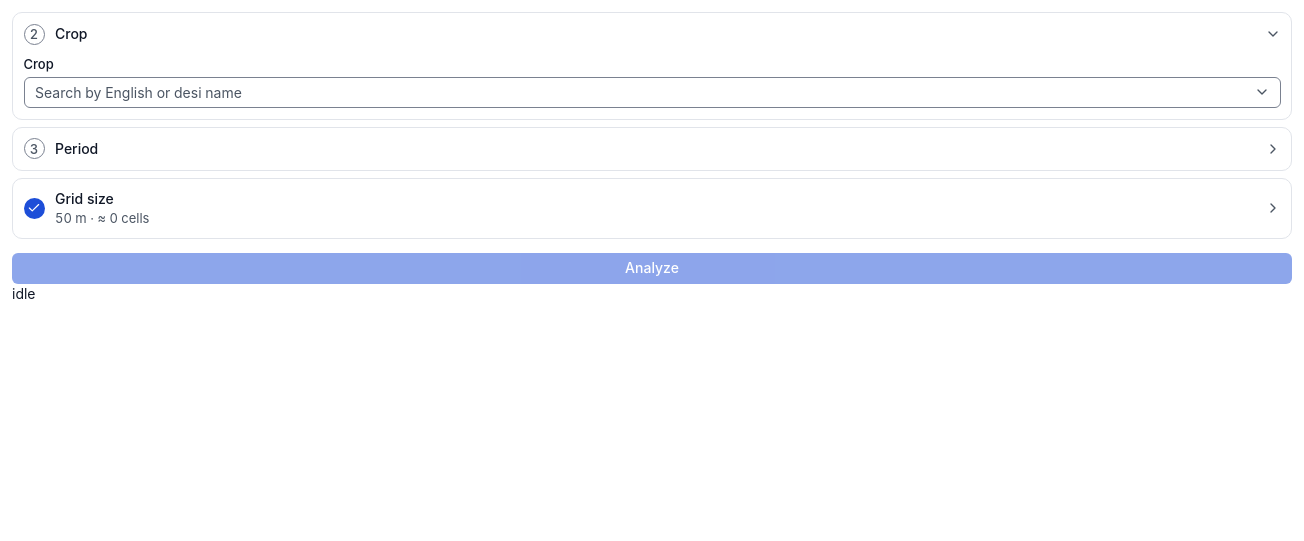
Test case: AnalysisSetupPanel › refuses a period longer than a year and says so
Click the button "3 Period". click: [78, 147]
box: [13,128,1291,170]
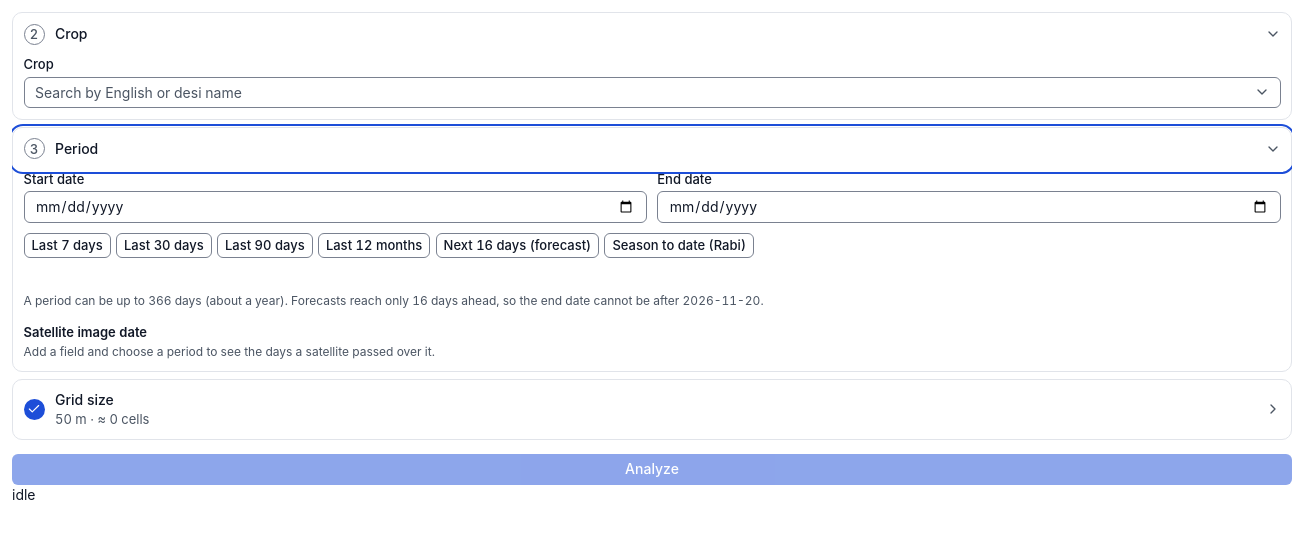
Type "2025-01-01" into the date field labelled "Start date". click: [335, 207]
box: [24,191,647,222]
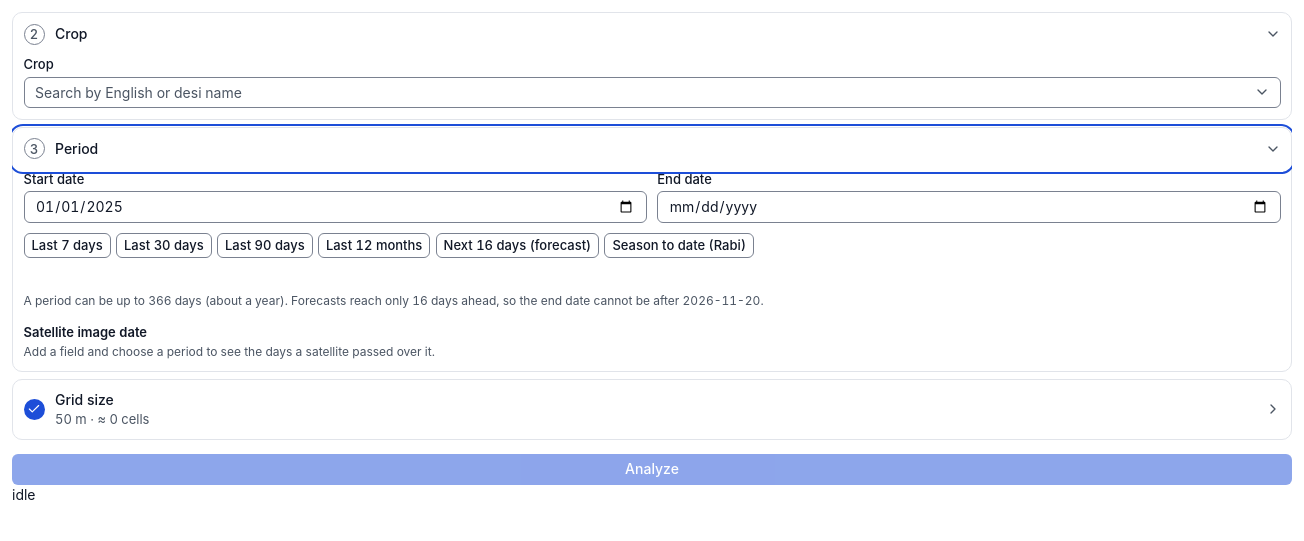
Type "2026-10-30" into the date field labelled "End date". click: [969, 207]
box: [657,191,1281,222]
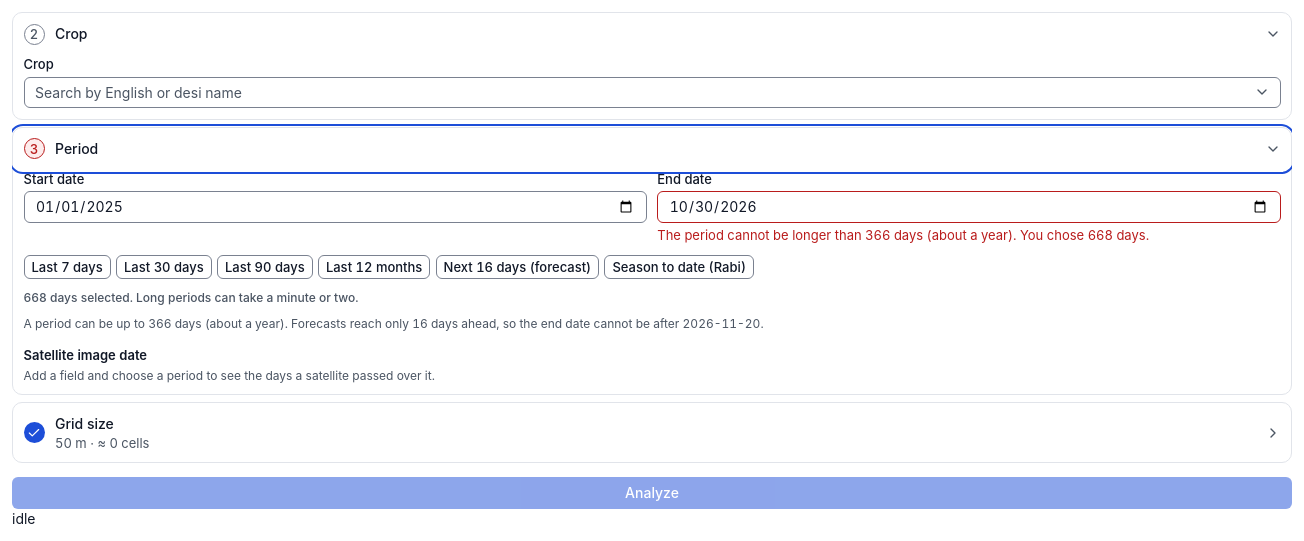
Now the text "cannot be longer than 366 days" is shown, box [657,227,1149,243]
